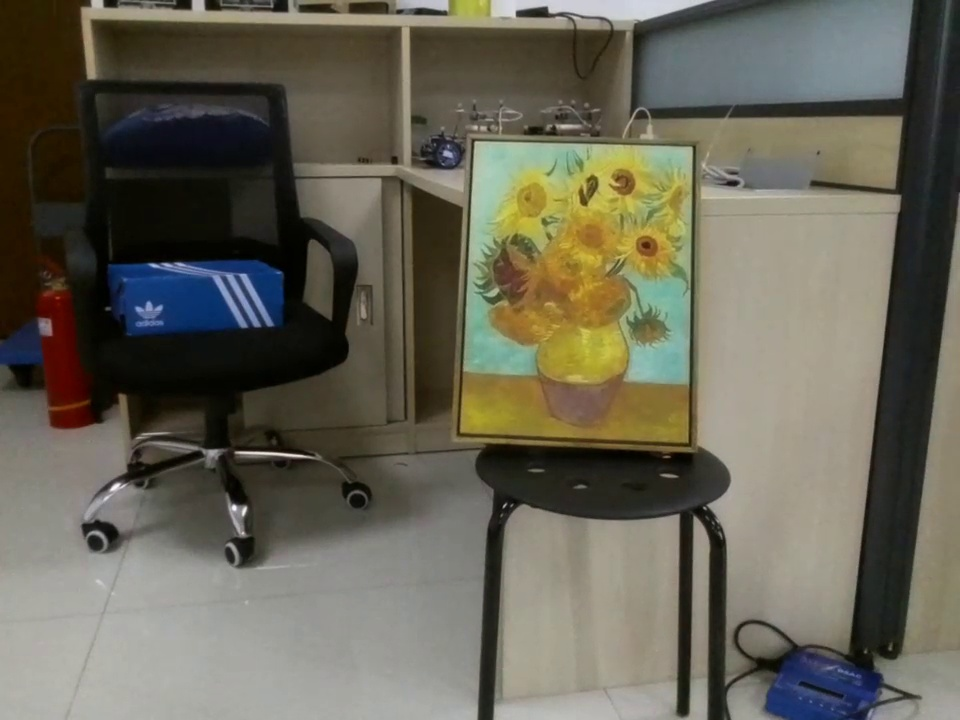painting: (453, 135, 708, 453)
